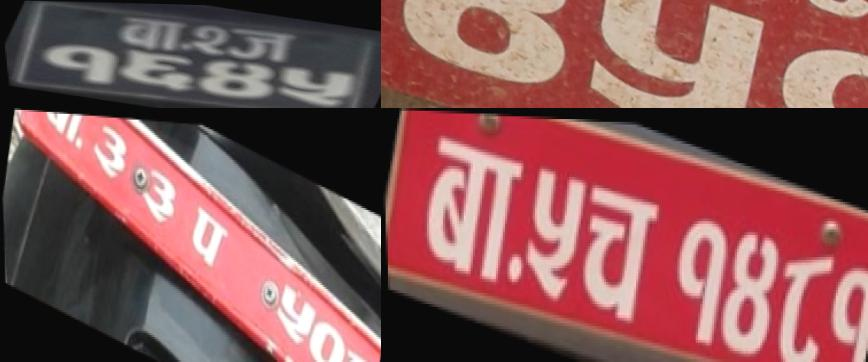0: (107, 13, 190, 51), (304, 308, 346, 362)
1: (652, 200, 741, 350), (747, 15, 868, 108), (810, 245, 868, 362), (180, 21, 236, 55)
2: (216, 24, 298, 63)
3: (26, 38, 134, 86), (89, 119, 128, 181), (140, 162, 177, 220)
4: (381, 0, 600, 103), (708, 217, 789, 362), (107, 47, 205, 92)
5: (555, 0, 785, 108), (505, 156, 593, 312), (184, 54, 284, 101), (271, 276, 316, 344)
6: (264, 62, 362, 108)
8: (757, 227, 842, 362), (336, 339, 377, 362)
ba: (403, 124, 536, 296), (41, 110, 91, 150)
cha: (560, 172, 668, 334)
pa: (184, 196, 229, 272)
